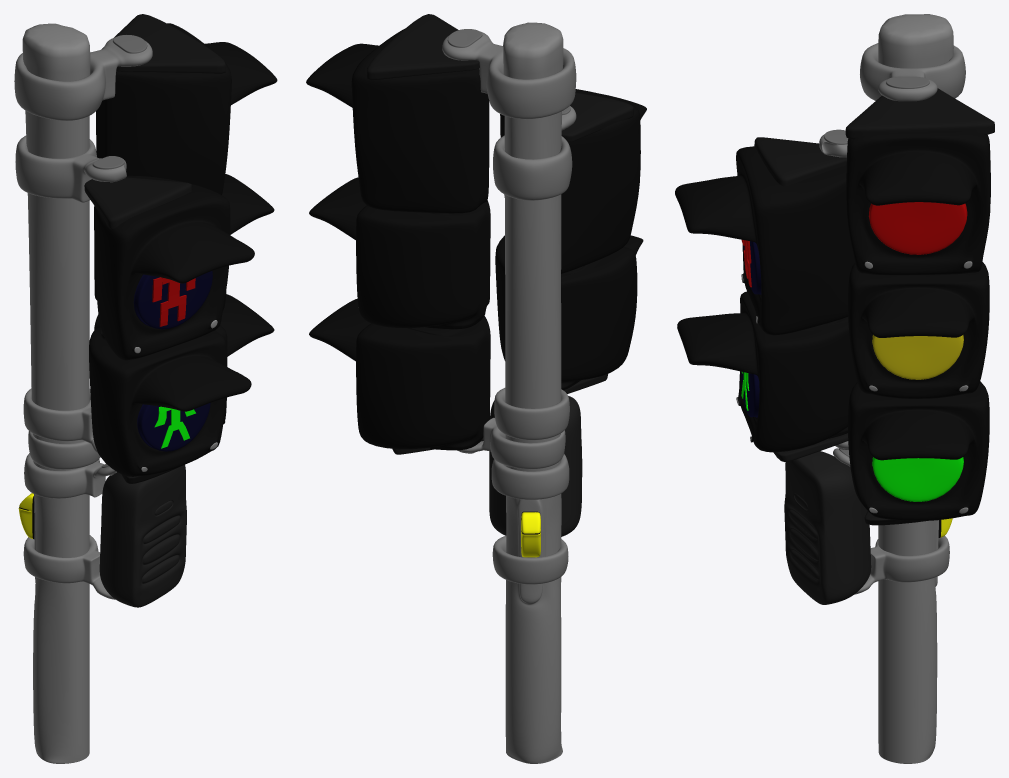
The model's file is traffic-light.glb.
The picture shows the model from 3 angles, left to right: view 1: azimuth 30°, elevation 25°; view 2: azimuth 150°, elevation 25°; view 3: azimuth 270°, elevation 25°; orthographic projection.
Visible parts, largest first — view 1: Full Traffic LightV1, RedSign, GreenSign; view 2: Full Traffic LightV1; view 3: Full Traffic LightV1.
Part boxes in pixels (left/top/right/bottom): Full Traffic LightV1: left=14, top=14, right=277, bottom=763; RedSign: left=152, top=277, right=195, bottom=326; GreenSign: left=154, top=406, right=195, bottom=448; Full Traffic LightV1: left=306, top=14, right=646, bottom=763; Full Traffic LightV1: left=675, top=14, right=994, bottom=763.
Bounding box in the file's own units: 1.99 × 5.78 × 2.3.
1 material, 1 textured.
